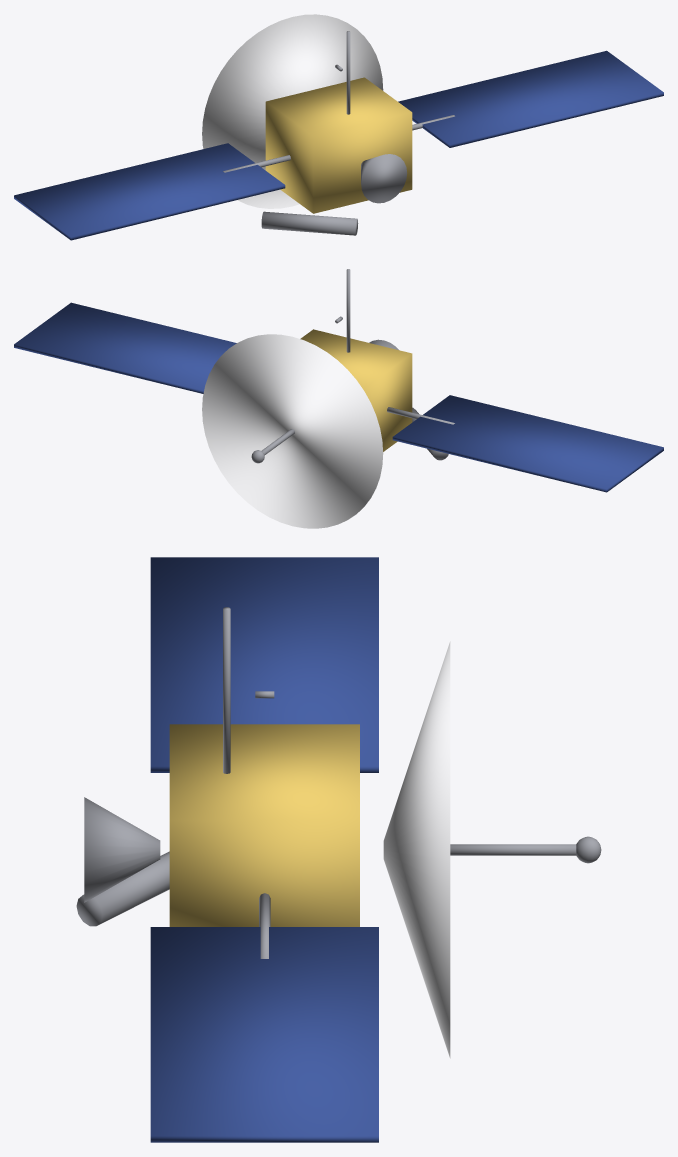
The model's file is probe.glb.
3 views of the same model, one above another, from view 1: azimuth 30°, elevation 25°; view 2: azimuth 150°, elevation 25°; view 3: azimuth 270°, elevation 25° (orthographic). The views are drawn at different scales.
Parts seen in each view (by area): view 1: bus, dish_bowl, panel_l, panel_r, nozzle, rtg_boom, boom_mag_arm; view 2: dish_bowl, panel_l, panel_r, bus, boom_mag_arm; view 3: panel_r, panel_l, bus, dish_bowl, nozzle, rtg_boom, dish_feed, boom_mag_arm.
Part boxes in pixels (box(x1,y1,x2,y2)): bus: box(265, 77, 412, 213); dish_bowl: box(202, 14, 383, 208); panel_l: box(14, 143, 285, 240); panel_r: box(398, 50, 663, 147); nozzle: box(361, 154, 407, 203); rtg_boom: box(261, 211, 358, 235); boom_mag_arm: box(346, 31, 350, 114); dish_bowl: box(202, 334, 383, 528); panel_l: box(392, 395, 663, 492); panel_r: box(14, 302, 236, 393); bus: box(300, 329, 412, 451); boom_mag_arm: box(346, 269, 350, 352); panel_r: box(150, 927, 378, 1142); panel_l: box(150, 557, 378, 772); bus: box(169, 724, 359, 926); dish_bowl: box(383, 641, 450, 1058); nozzle: box(84, 797, 160, 902); rtg_boom: box(76, 851, 169, 926); dish_feed: box(450, 844, 576, 855); boom_mag_arm: box(223, 607, 230, 773).
Size of the model in its own units: 7.2 by 2.5 by 2.76.
